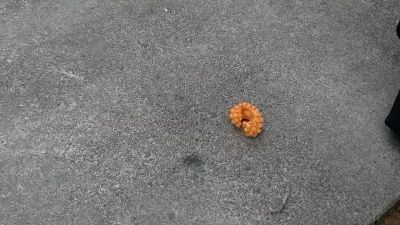eggs: (227, 102, 264, 137)
